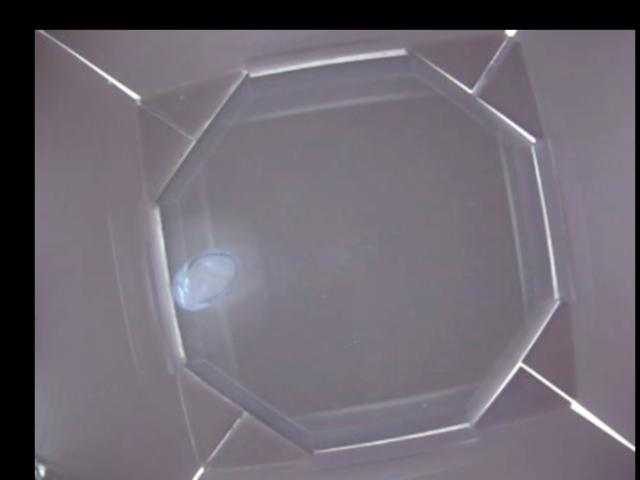Pebble: (170, 248, 234, 316)
